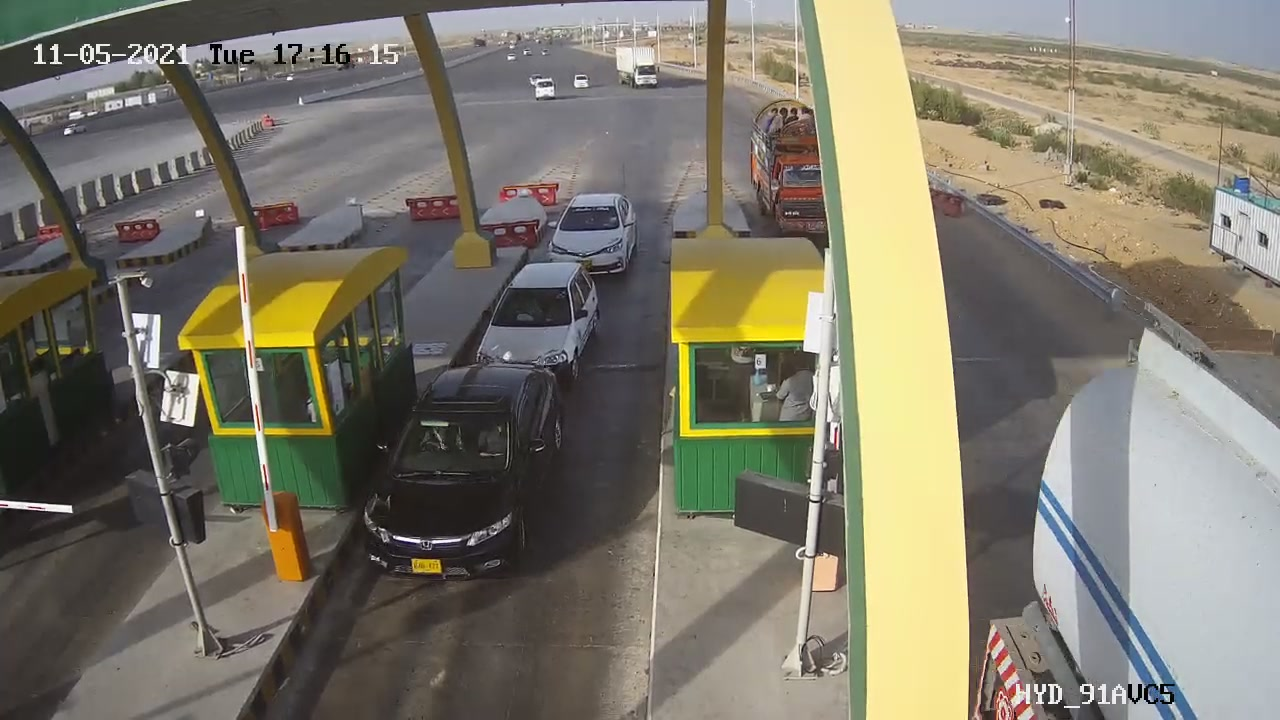F1: (351, 349, 585, 595), (461, 256, 618, 396), (534, 185, 653, 291)
